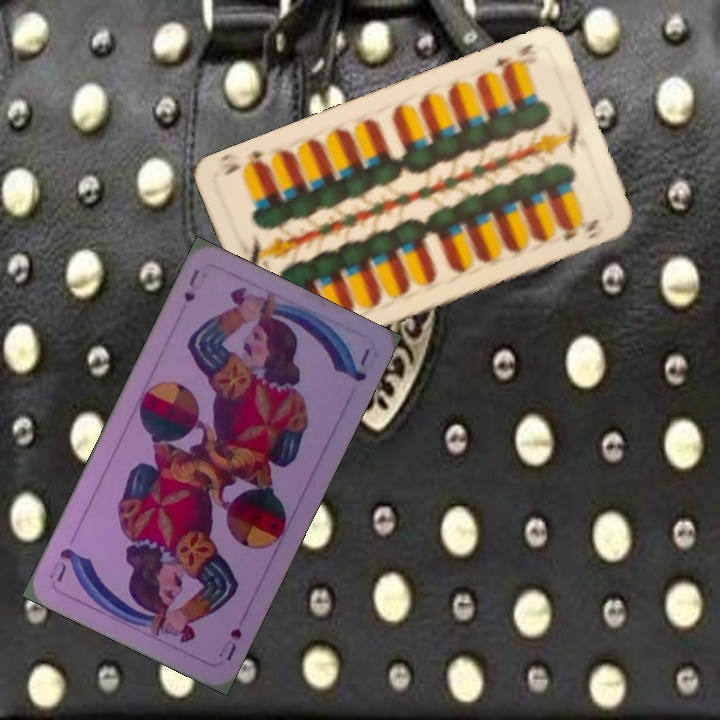E10: (491, 40, 536, 77)
SU: (214, 623, 245, 664), (180, 264, 203, 305)
